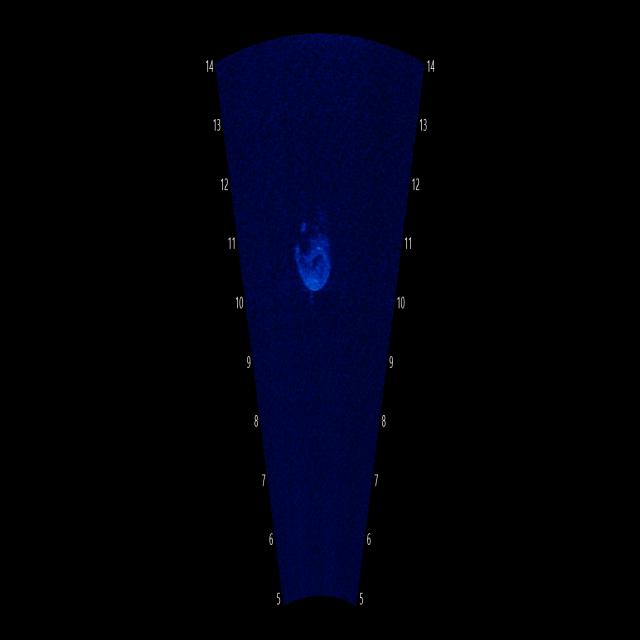circle: (284, 193, 338, 312)
